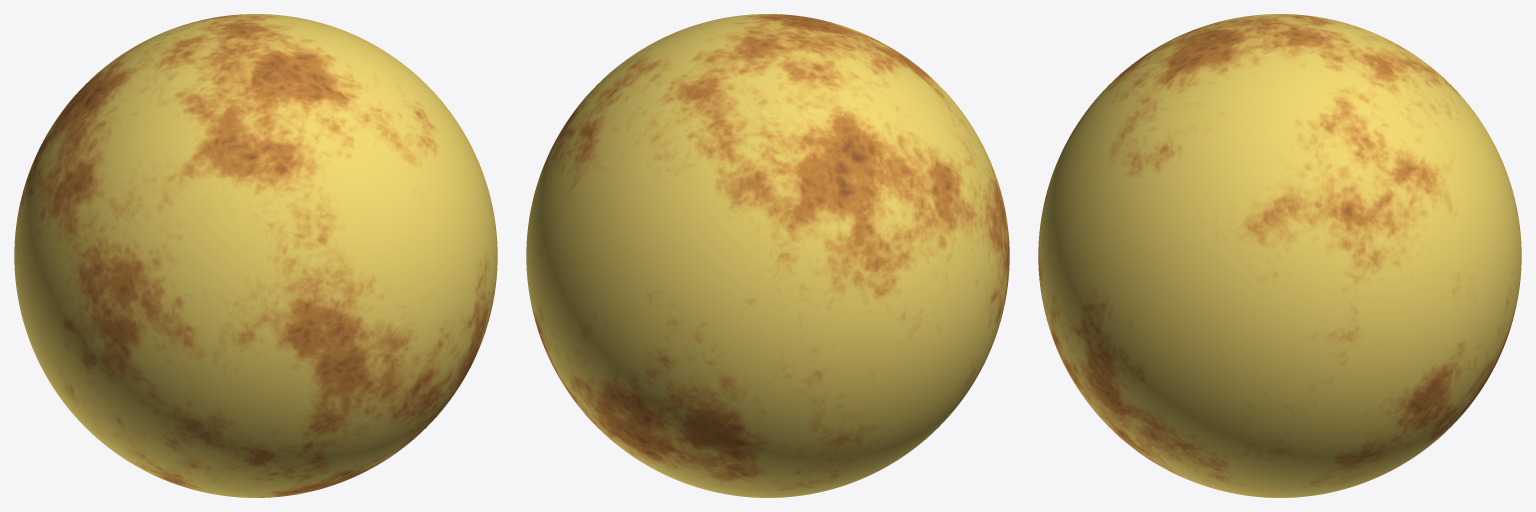
File: Venus.glb
3 views of the same model, side by side, from view 1: azimuth 30°, elevation 25°; view 2: azimuth 150°, elevation 25°; view 3: azimuth 270°, elevation 25° (orthographic).
Parts seen in each view (by area): view 1: Venus_Body; view 2: Venus_Body; view 3: Venus_Body.
Part boxes in pixels (<box>): Venus_Body: <box>14,14,497,497</box>; Venus_Body: <box>526,14,1009,497</box>; Venus_Body: <box>1038,14,1521,497</box>.
Bounding box in the file's own units: 2 × 2 × 2.
Materials: 1 (1 with a texture image).
